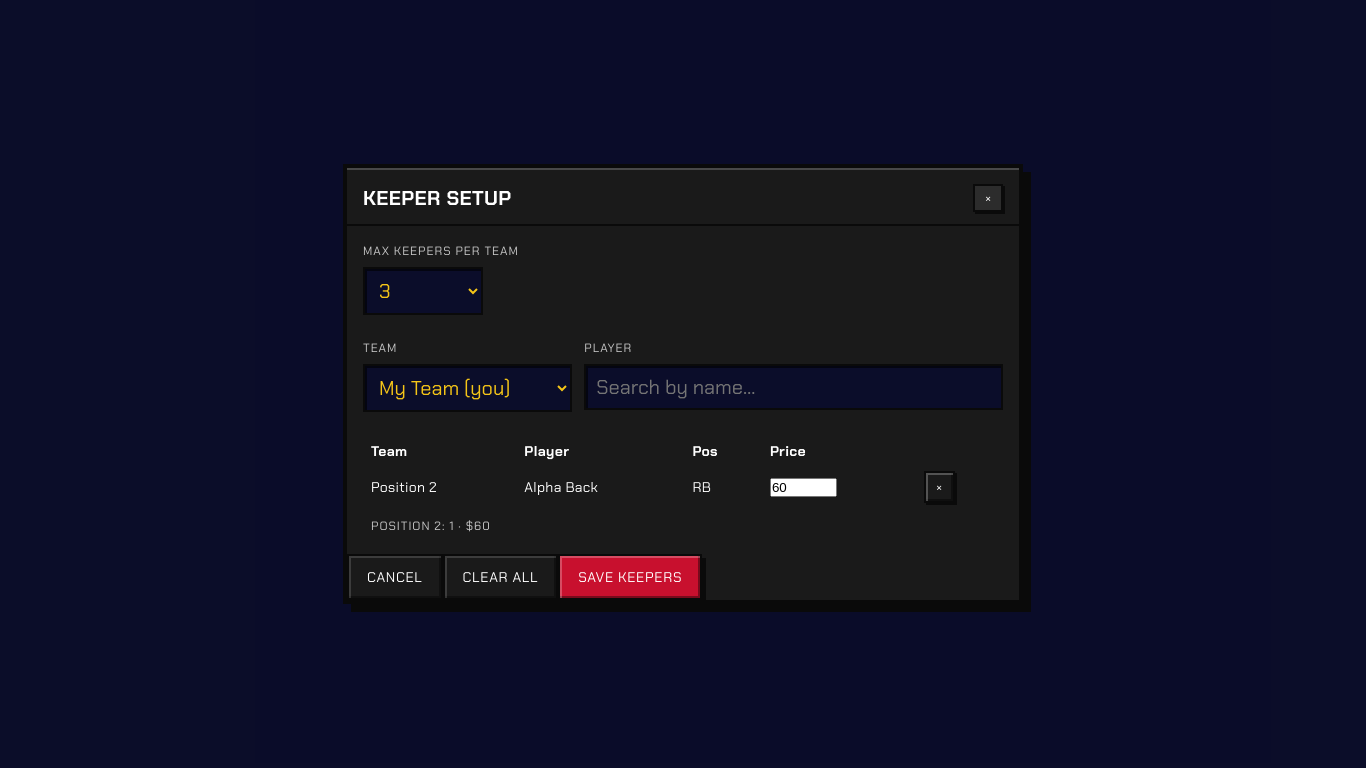
Scenario: KeeperModal › shows validation errors and blocks saving an invalid set
// Price the keeper so high the team can't cover $1/slot for 14 open slots.
Replace the text in the number field named "keeper price for alpha back" with "190" at (803, 487), box [770,478,837,497]
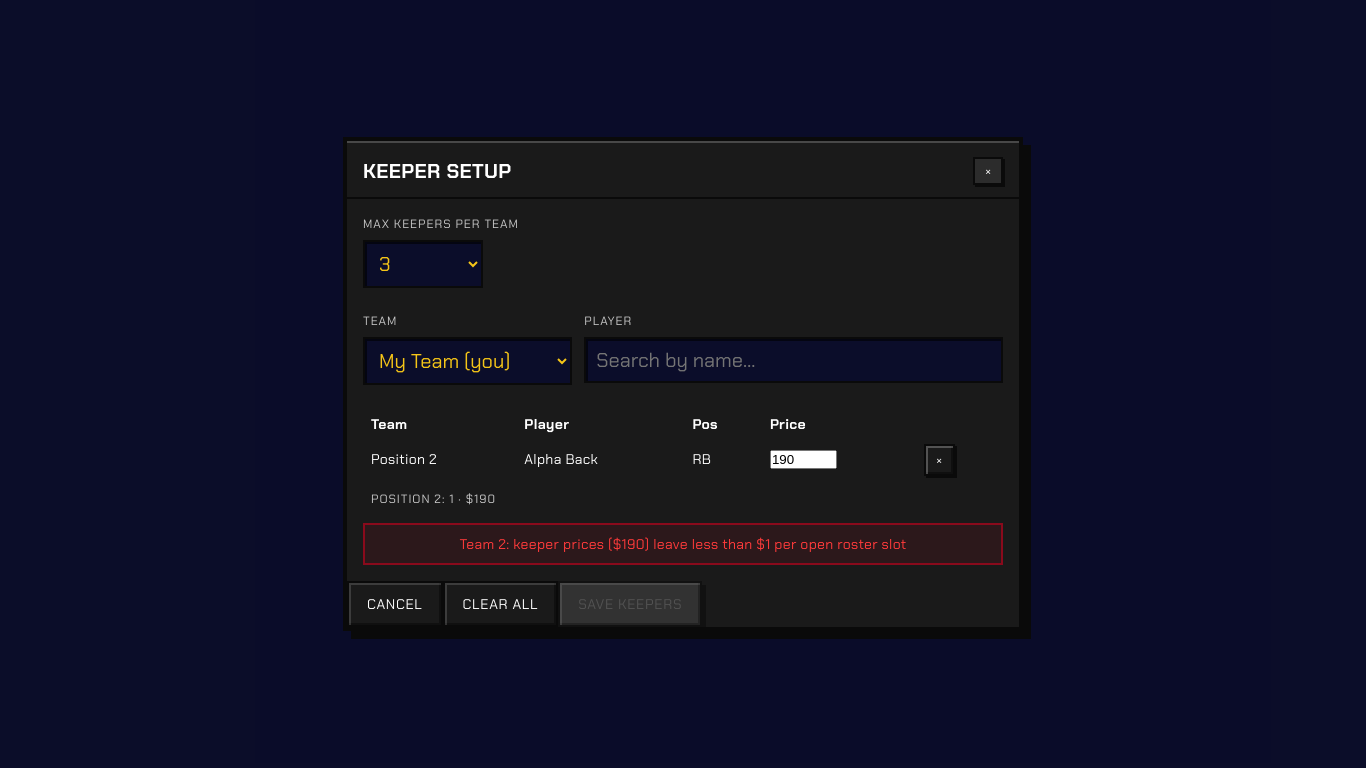
Expected: the text "less than $1 per open roster slot" is shown, [459,535,906,553]
Expected: the button "Save Keepers" is disabled, [558,581,702,627]
